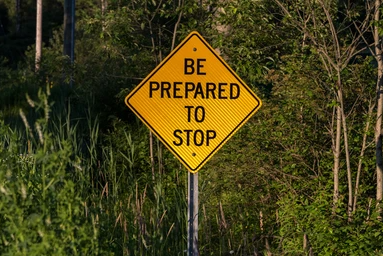Be Prepared to Stop: (127, 98, 222, 195)
